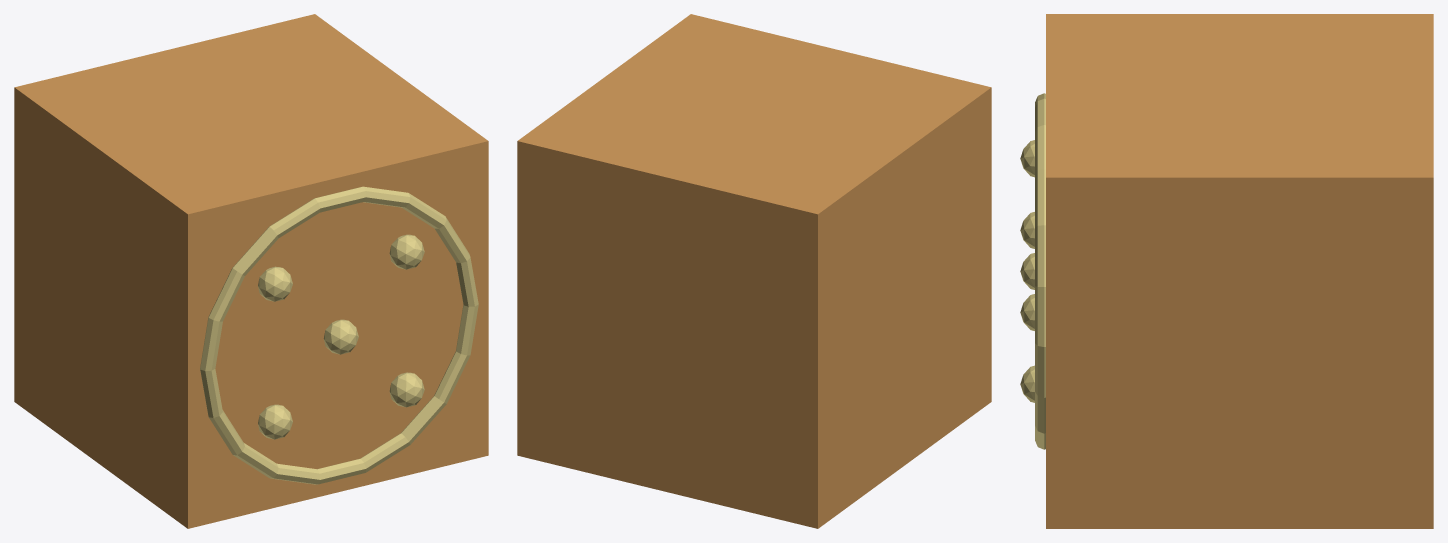
Rendered from krit.glb.
3 renders of one model, left to right at view 1: azimuth 30°, elevation 25°; view 2: azimuth 150°, elevation 25°; view 3: azimuth 270°, elevation 25°, orthographic. The views are drawn at different scales.
Parts seen in each view (by area): view 1: world; view 2: world; view 3: world.
Part boxes in pixels (x1=…): world: x1=14, y1=14, x2=488, y2=528; world: x1=517, y1=14, x2=991, y2=528; world: x1=1020, y1=14, x2=1433, y2=528.
Size of the model in its own units: 1.05 by 1.05 by 1.12.
